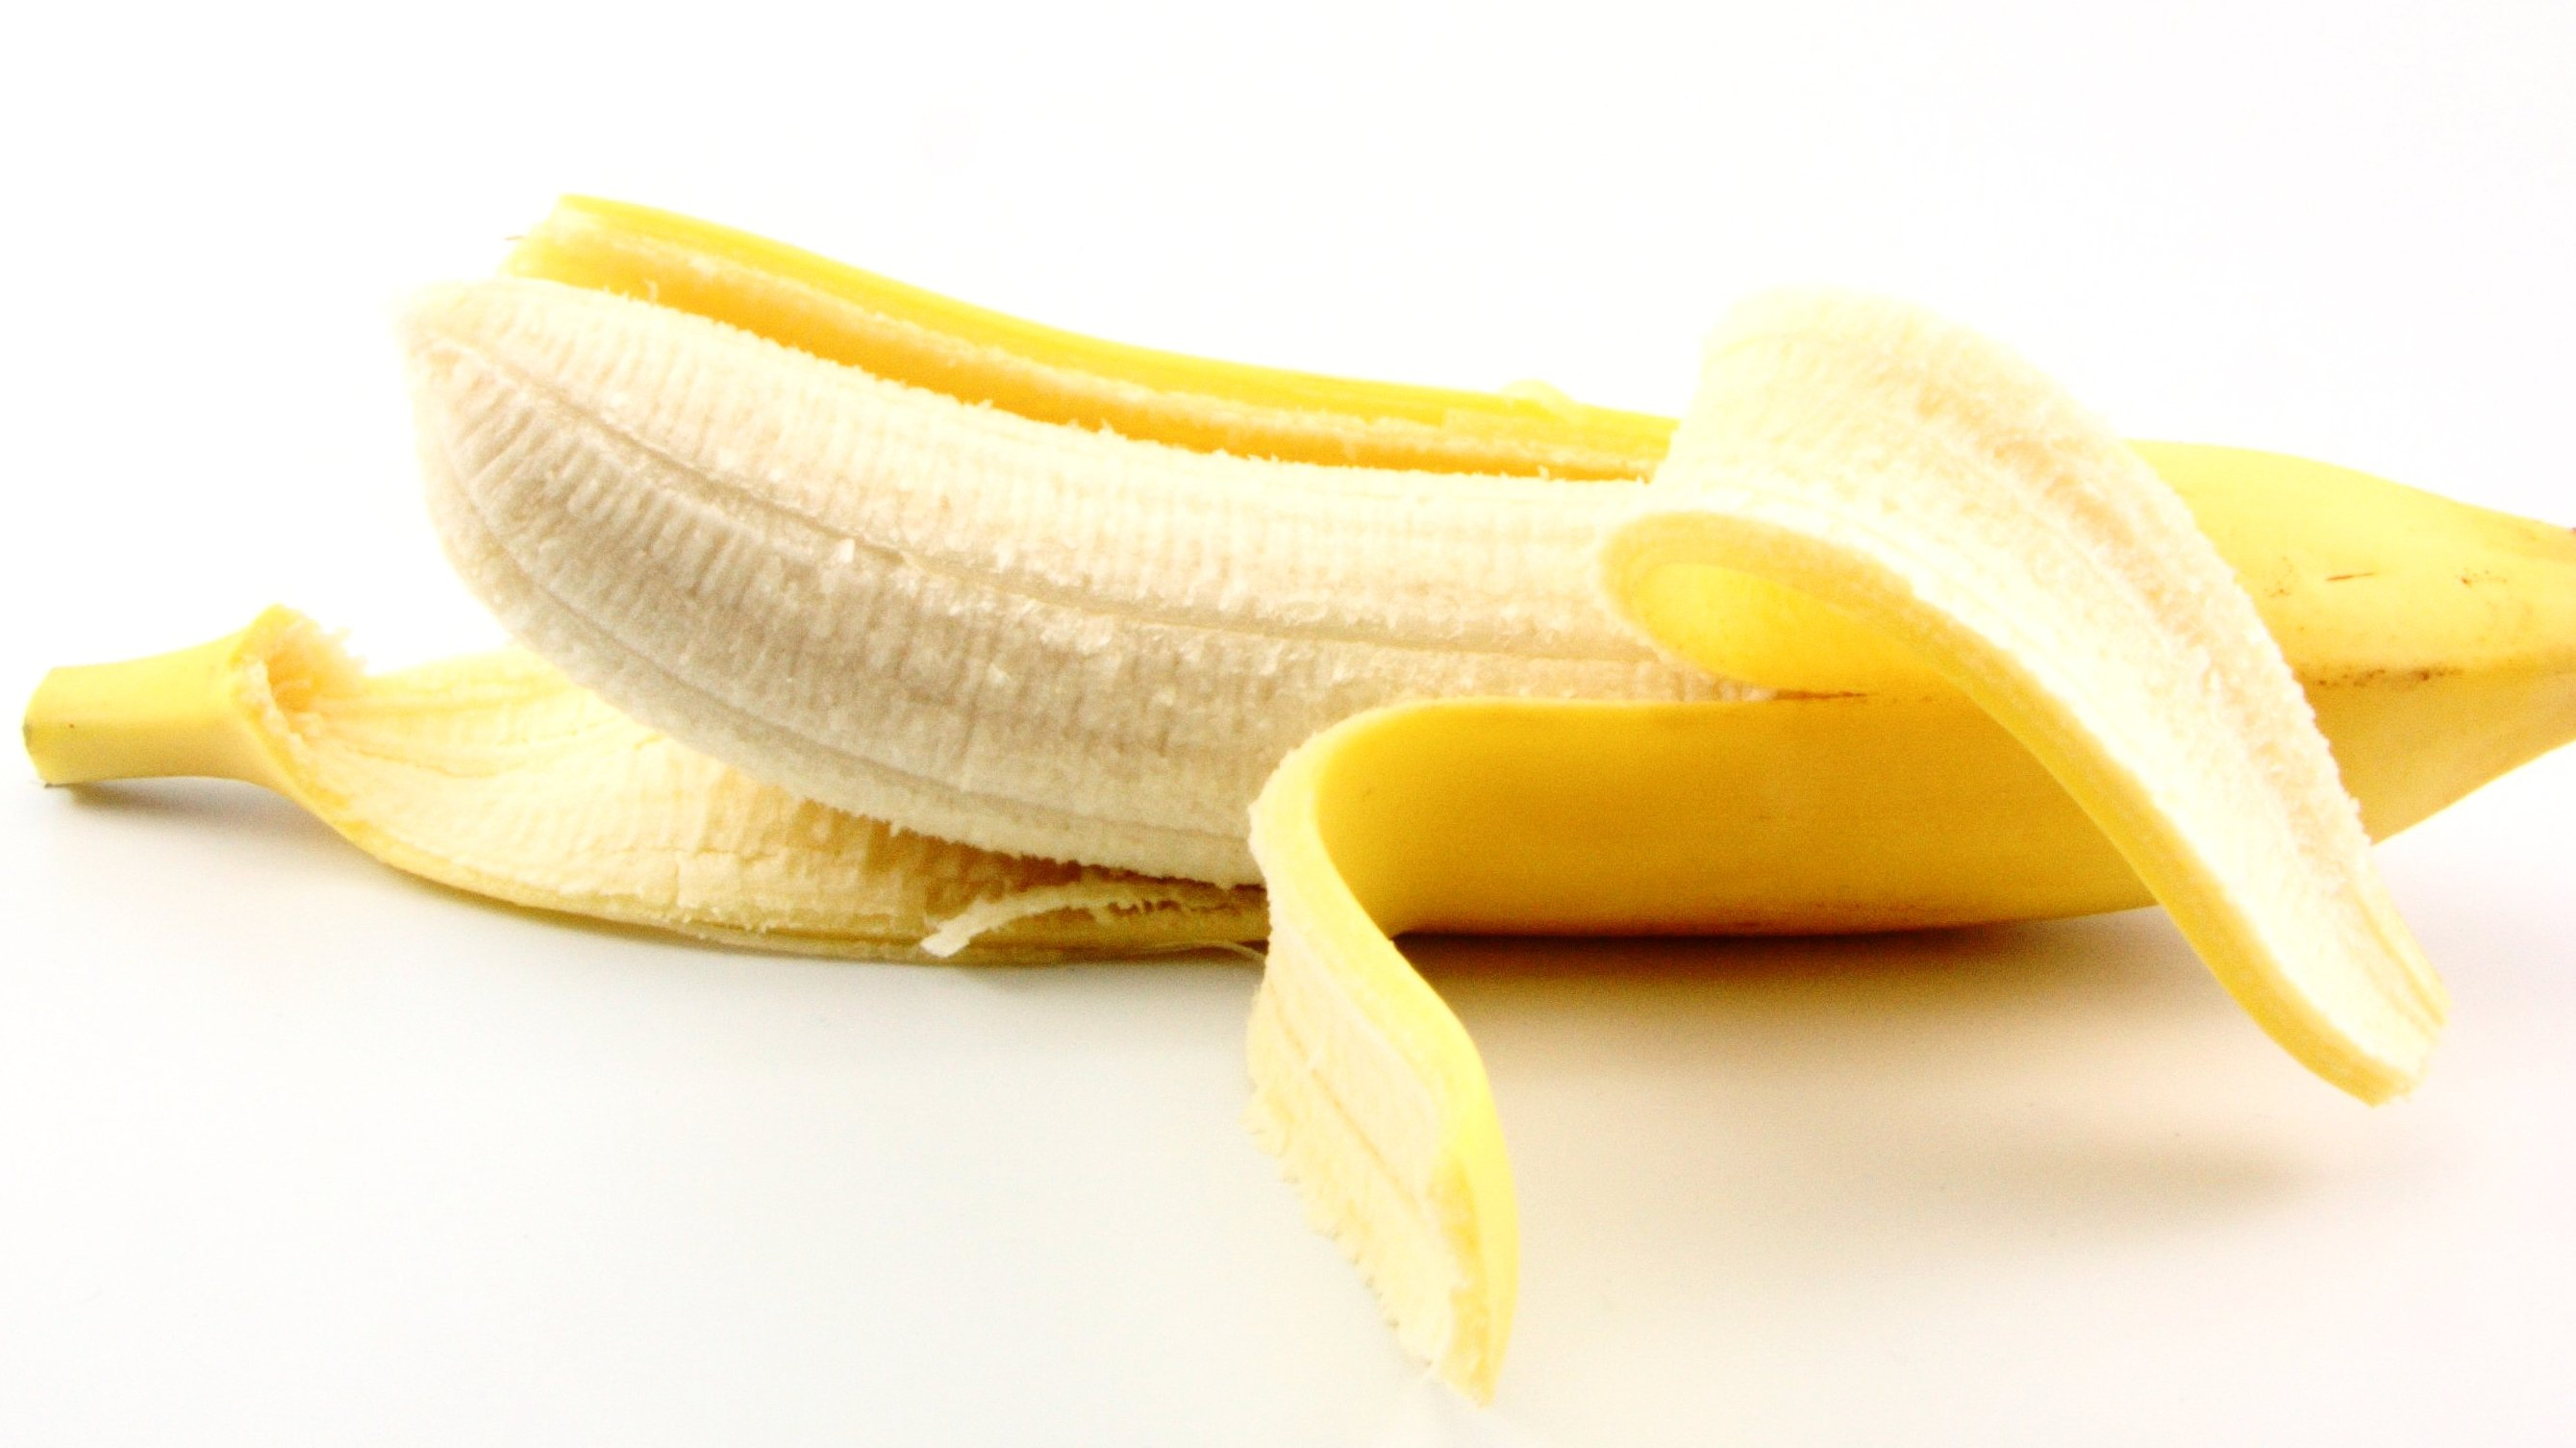banana: (403, 286, 2502, 994)
